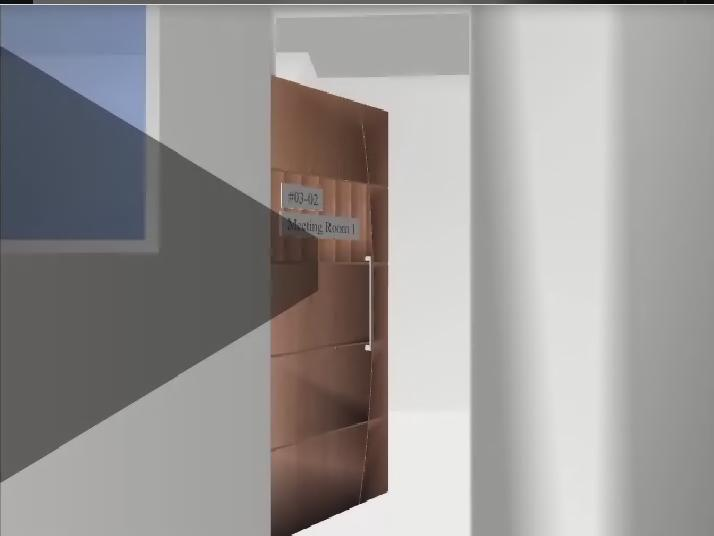door: (272, 74, 388, 536)
